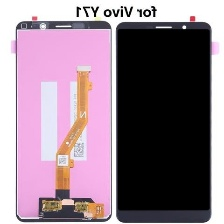phone: (113, 19, 213, 224), (13, 17, 112, 223)
